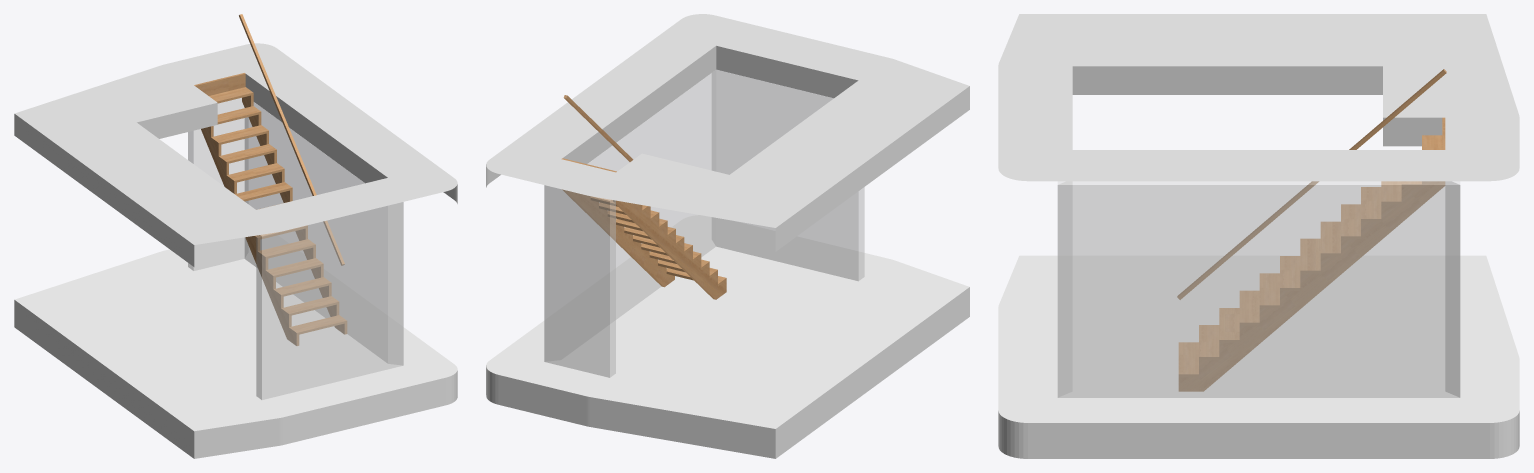
3 views of the same model, side by side, from view 1: azimuth 30°, elevation 25°; view 2: azimuth 150°, elevation 25°; view 3: azimuth 270°, elevation 25° (orthographic). The views are drawn at different scales.
Visible parts, largest first — view 1: Material2 (×5); view 2: Material2 (×5); view 3: Material2 (×4).
Boxes of the visible parts, left/top/right/bottom form: Material2 (×5): left=14, top=14, right=457, bottom=458; Material2 (×5): left=486, top=14, right=969, bottom=458; Material2 (×4): left=998, top=14, right=1519, bottom=458.
Size of the model in its own units: 158 by 156 by 207.
Materials: 5 (1 with a texture image).
